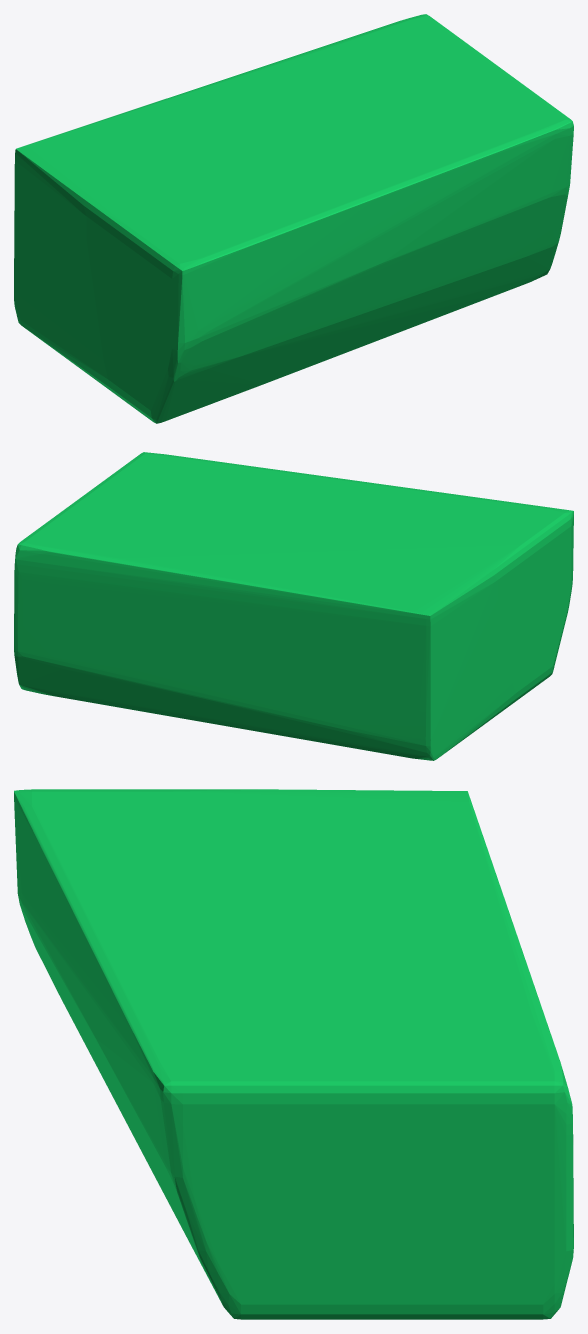
Rendered from left-elbow-0_part_23.obj.
3 renders of one model, top to bottom at view 1: azimuth 30°, elevation 25°; view 2: azimuth 150°, elevation 25°; view 3: azimuth 270°, elevation 25°, orthographic. The views are drawn at different scales.
Bounding box in the file's own units: 0.0556 × 0.0204 × 0.0439.
